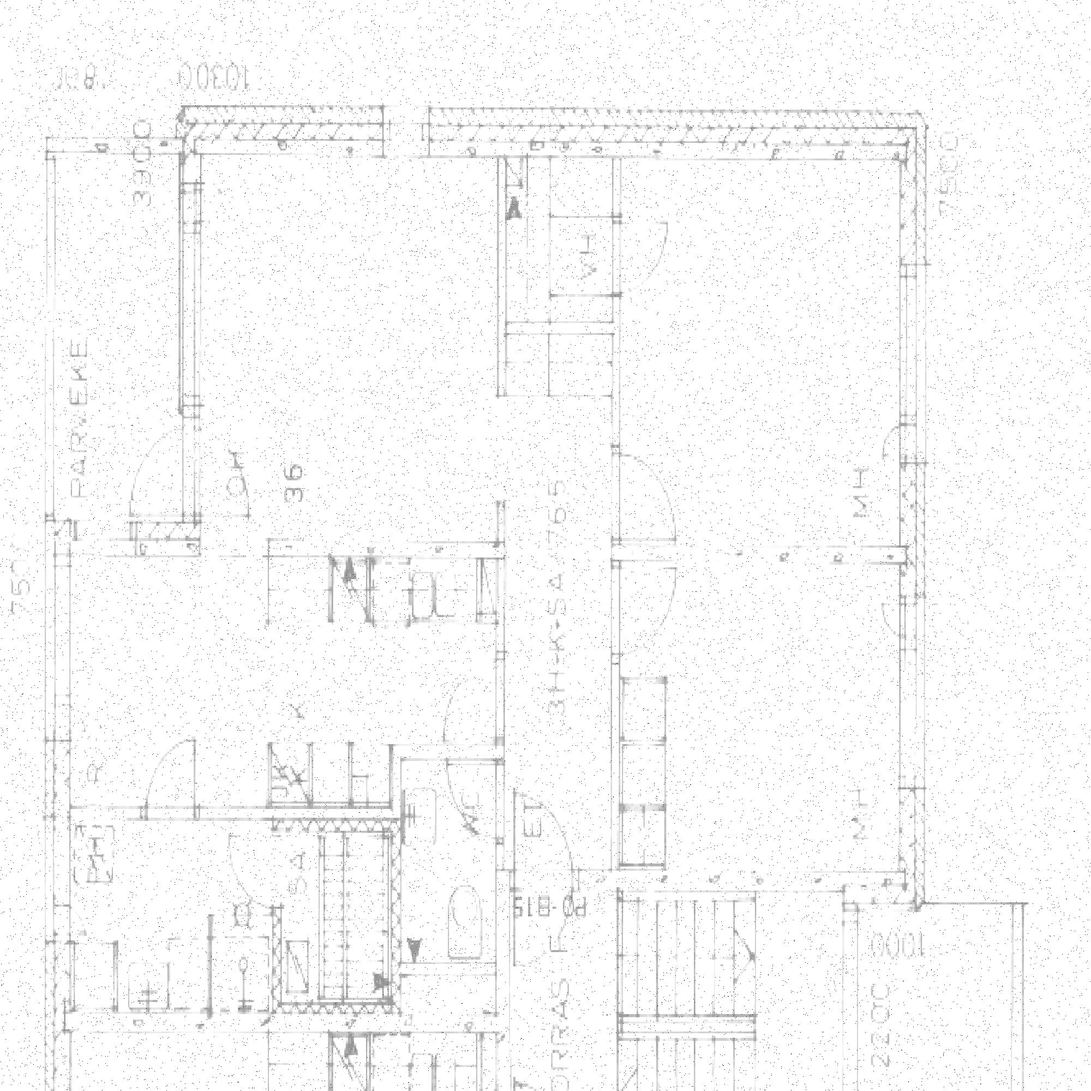wall: (180, 106, 925, 157), (901, 106, 925, 889), (44, 522, 68, 1034), (44, 1012, 511, 1034), (496, 868, 925, 890), (180, 106, 200, 556), (612, 157, 621, 868), (44, 522, 201, 556), (496, 157, 507, 556), (68, 806, 392, 819), (267, 540, 507, 556), (621, 543, 901, 556), (496, 556, 507, 867), (391, 745, 403, 1012), (44, 135, 180, 157), (496, 868, 511, 1034), (391, 744, 496, 762), (272, 819, 281, 1012), (507, 320, 612, 332), (403, 962, 496, 975)
